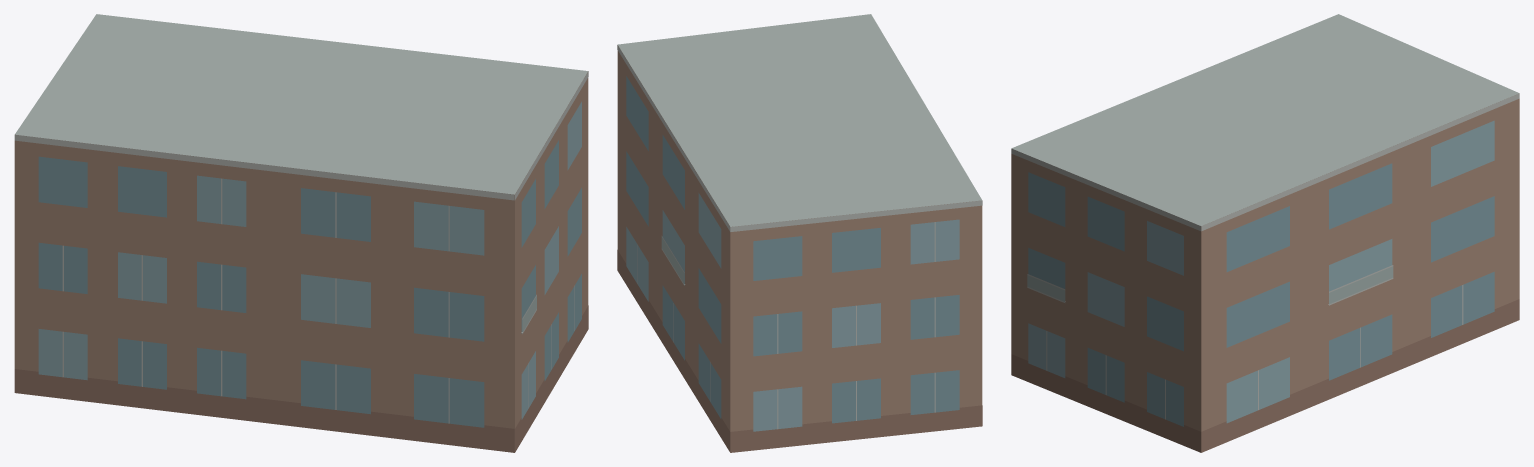
Rendered from survey-upis-32834893.glb.
The picture shows the model from 3 angles, left to right: view 1: azimuth 30°, elevation 25°; view 2: azimuth 150°, elevation 25°; view 3: azimuth 270°, elevation 25°; orthographic projection. The views are drawn at different scales.
Parts seen in each view (by area): view 1: survey-upis-32834893.tmp; view 2: survey-upis-32834893.tmp; view 3: survey-upis-32834893.tmp.
Boxes of the visible parts, x1,y1,x2,y2 form: survey-upis-32834893.tmp: [14, 14, 588, 452]; survey-upis-32834893.tmp: [617, 14, 982, 452]; survey-upis-32834893.tmp: [1011, 14, 1519, 452].
Size of the model in its own units: 21.29 by 10.6 by 21.55.
